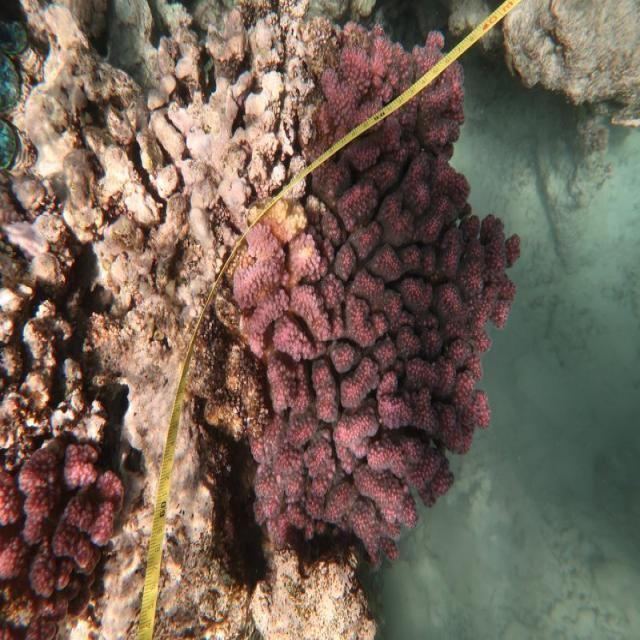Healthy Coral: (231, 20, 524, 567), (1, 433, 130, 640)
